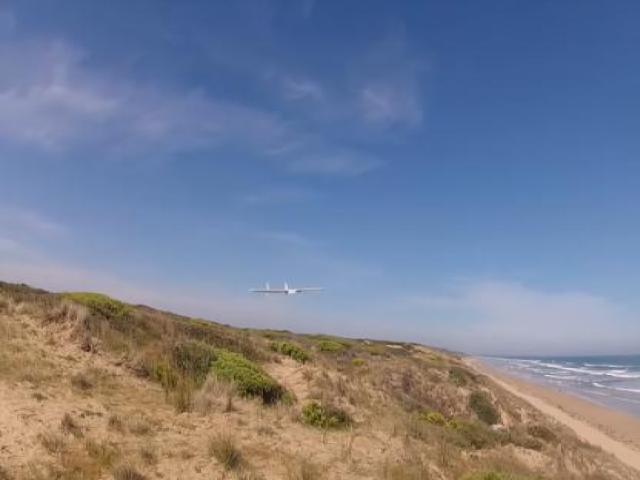uav: (251, 278, 323, 299)
